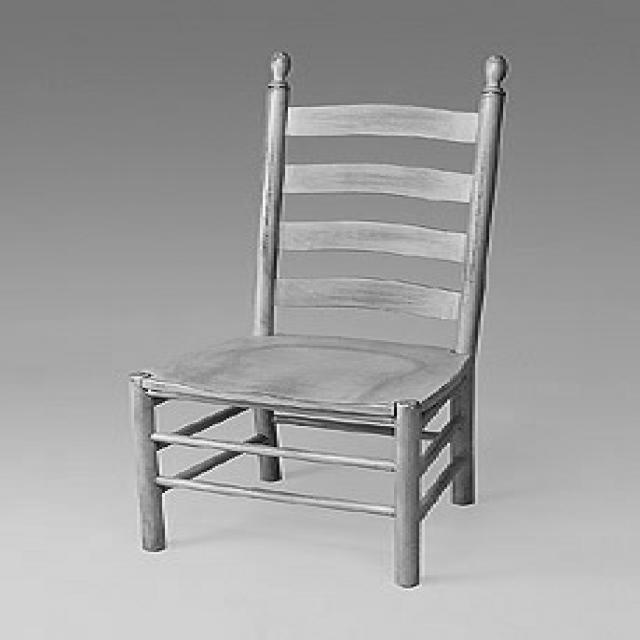chair: (124, 50, 514, 584)
